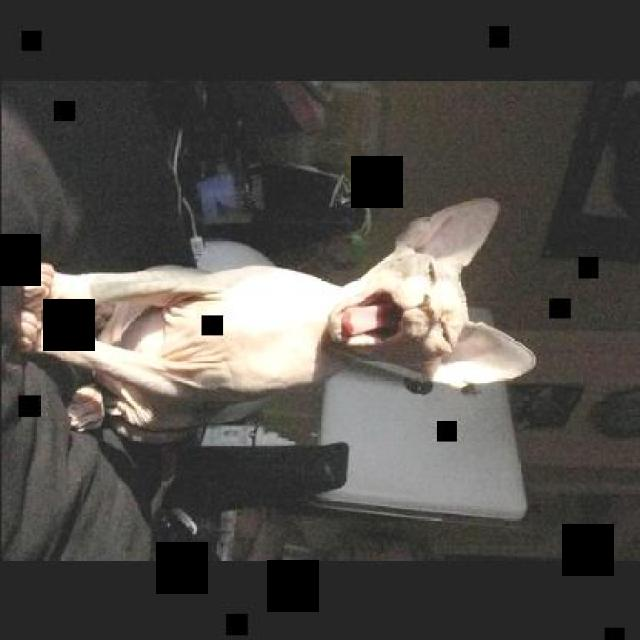unauthorized: (14, 194, 535, 437)
